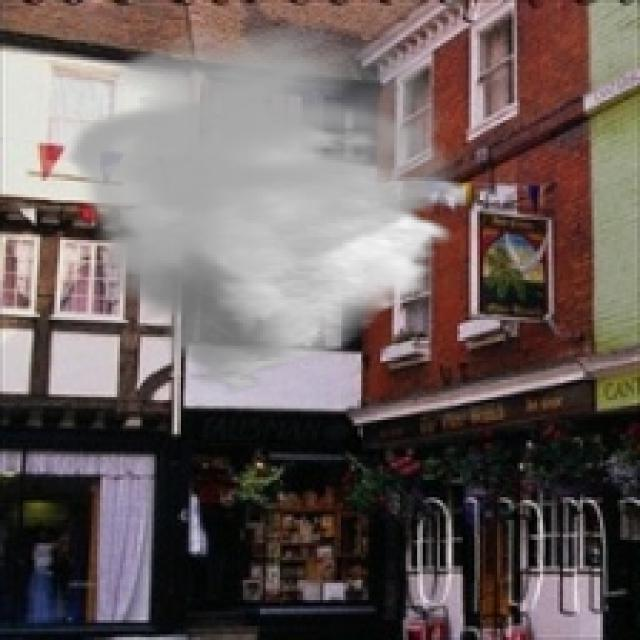smoke: (63, 23, 466, 394)
